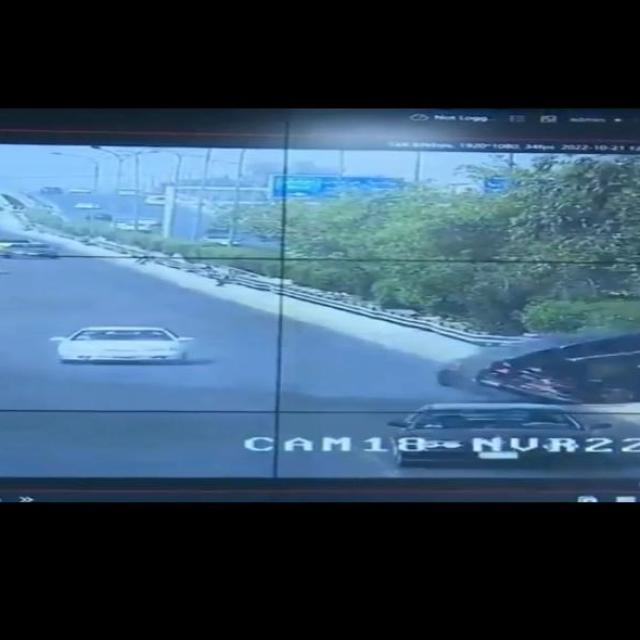accident: (423, 318, 640, 398)
non_accident: (0, 231, 72, 265)
